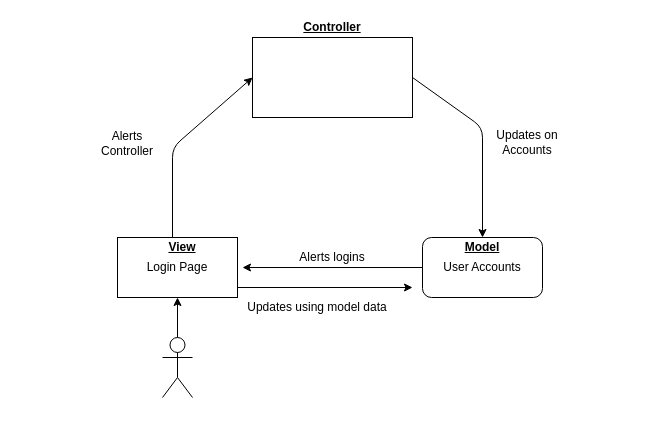
The diagram is 654 pixels wide and 435 high, and some of its shapes have lost their labels. The shapes that lost their labels are listed below. From the top down, each one's centre as x and y in pixels, then its label:
At point 332,77: "Storage for Accounts".
At point 177,367: "User Logins".
